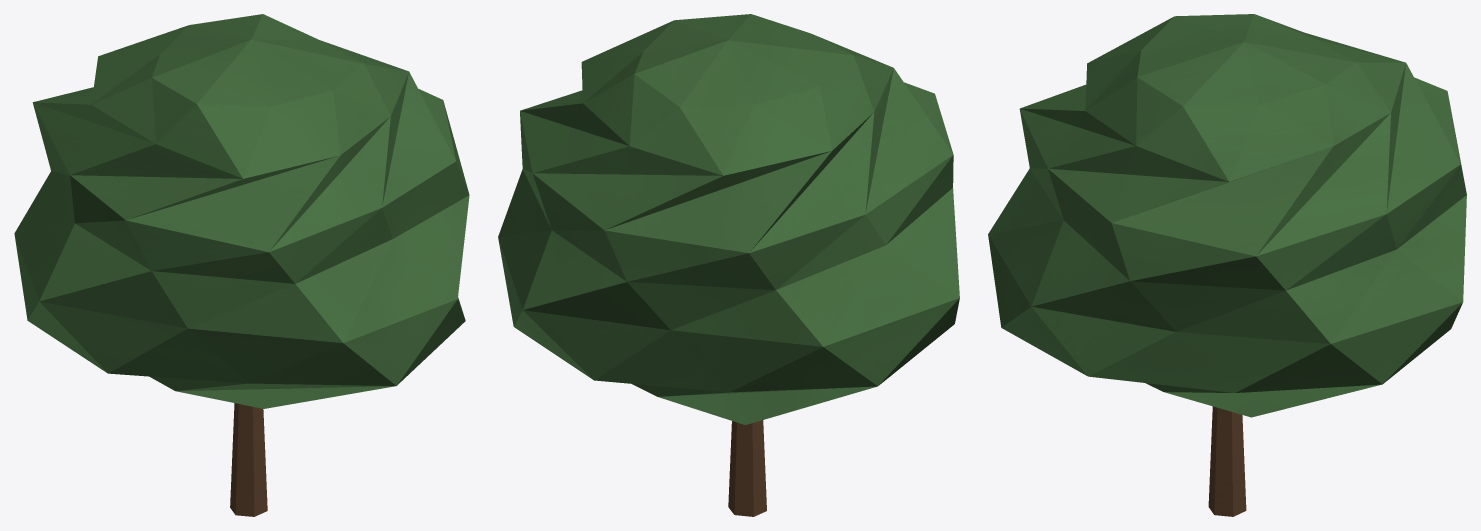
The model's file is far_jura_young.fbx.
3 renders of one model, left to right at view 1: azimuth 30°, elevation 25°; view 2: azimuth 150°, elevation 25°; view 3: azimuth 270°, elevation 25°, orthographic. The views are drawn at different scales.
Visible parts, largest first — view 1: far_jura_young__Card; view 2: far_jura_young__Card; view 3: far_jura_young__Card.
Boxes of the visible parts, x1=… form: far_jura_young__Card: x1=14, y1=14, x2=469, y2=516; far_jura_young__Card: x1=498, y1=14, x2=959, y2=516; far_jura_young__Card: x1=988, y1=14, x2=1466, y2=516.
Size of the model in its own units: 35 by 37 by 34.
Materials: 1 (1 with a texture image).
